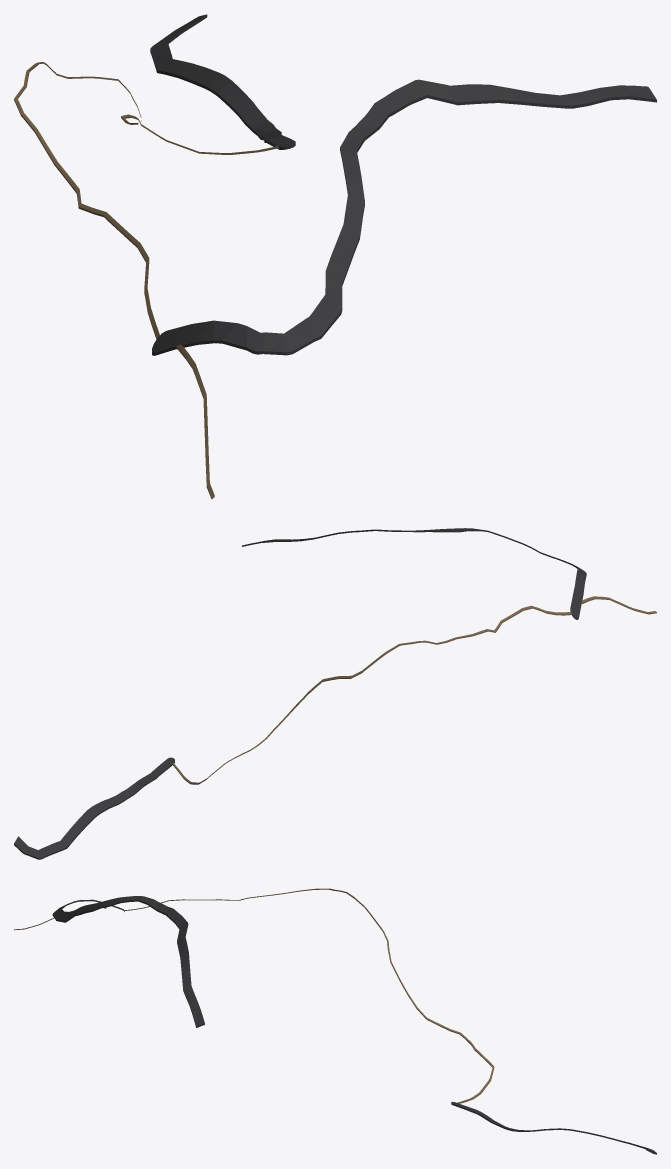
The picture shows the model from 3 angles, top to bottom: view 1: azimuth 30°, elevation 25°; view 2: azimuth 150°, elevation 25°; view 3: azimuth 270°, elevation 25°; orthographic projection. The views are drawn at different scales.
Bounding box in the file's own units: 264 × 145 × 469.
